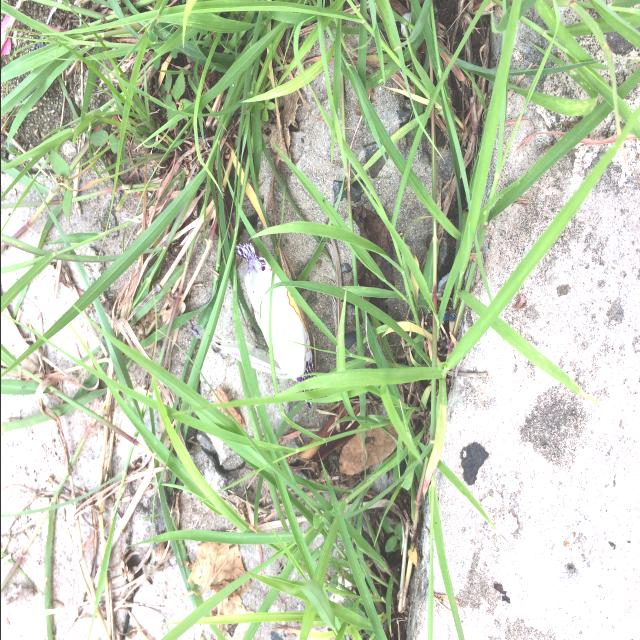Other plastic: (190, 242, 314, 384)
